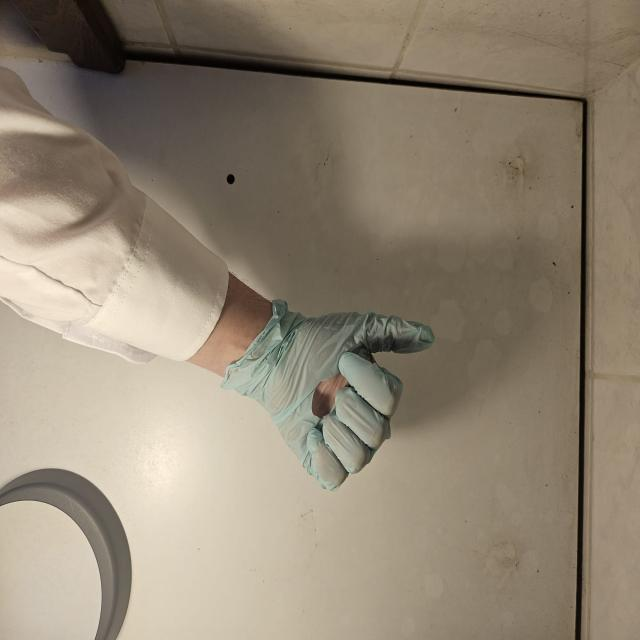gloves_damaged: (228, 295, 435, 492)
